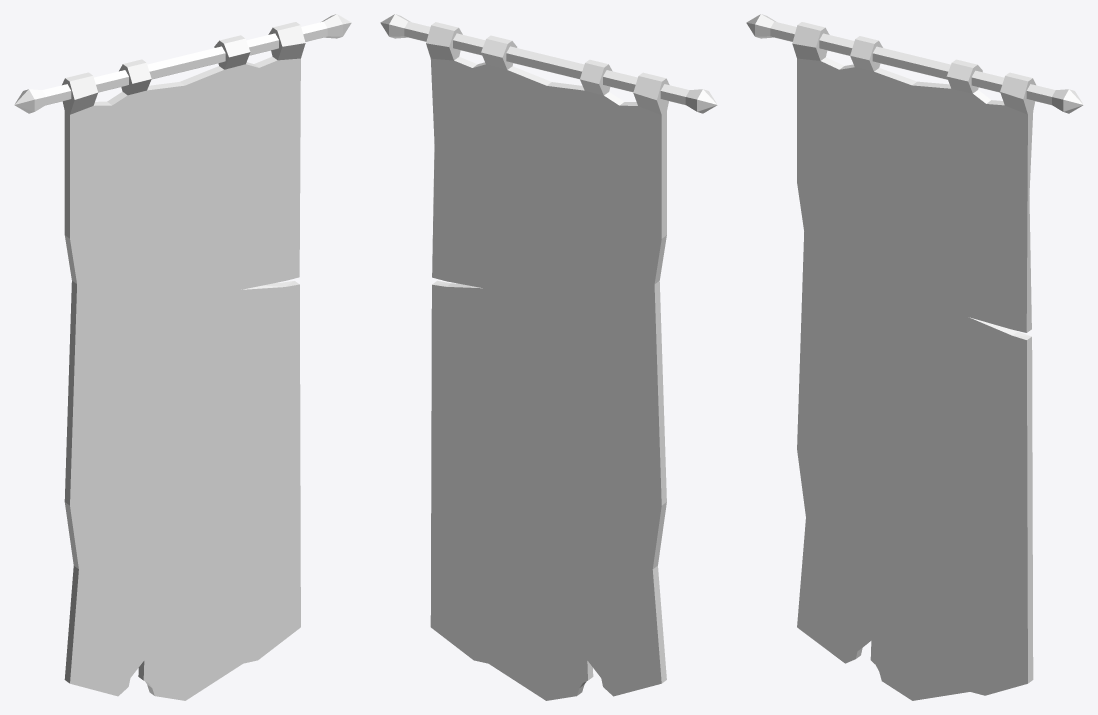
File: Banner 1.fbx
3 renders of one model, left to right at view 1: azimuth 30°, elevation 25°; view 2: azimuth 150°, elevation 25°; view 3: azimuth 330°, elevation 25°, orthographic.
Parts seen in each view (by area): view 1: Banner 1; view 2: Banner 1; view 3: Banner 1.
Part boxes in pixels (x1,y1,x2,y2): Banner 1: (14,14,351,700); Banner 1: (380,14,717,700); Banner 1: (746,14,1083,700).
Size of the model in its own units: 577 by 1057 by 43.78.
Materials: 1 (1 with a texture image).
